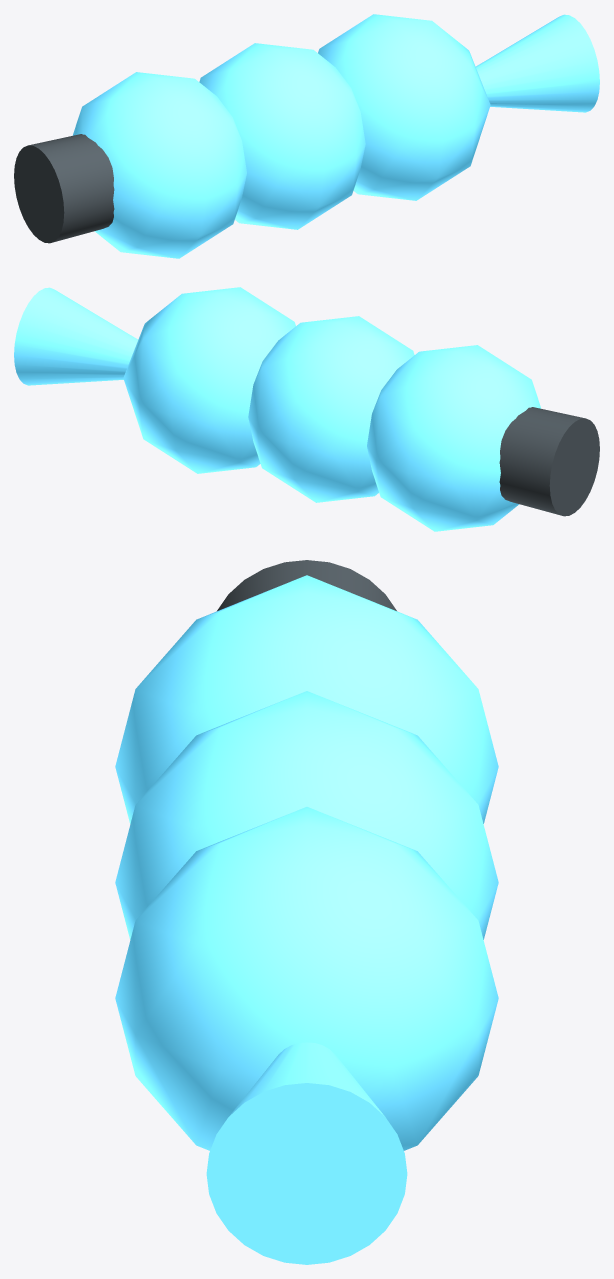
The model's file is shot.glb.
The picture shows the model from 3 angles, top to bottom: view 1: azimuth 30°, elevation 25°; view 2: azimuth 150°, elevation 25°; view 3: azimuth 270°, elevation 25°; orthographic projection. The views are drawn at different scales.
Size of the model in its own units: 2.71 by 0.84 by 0.84.
